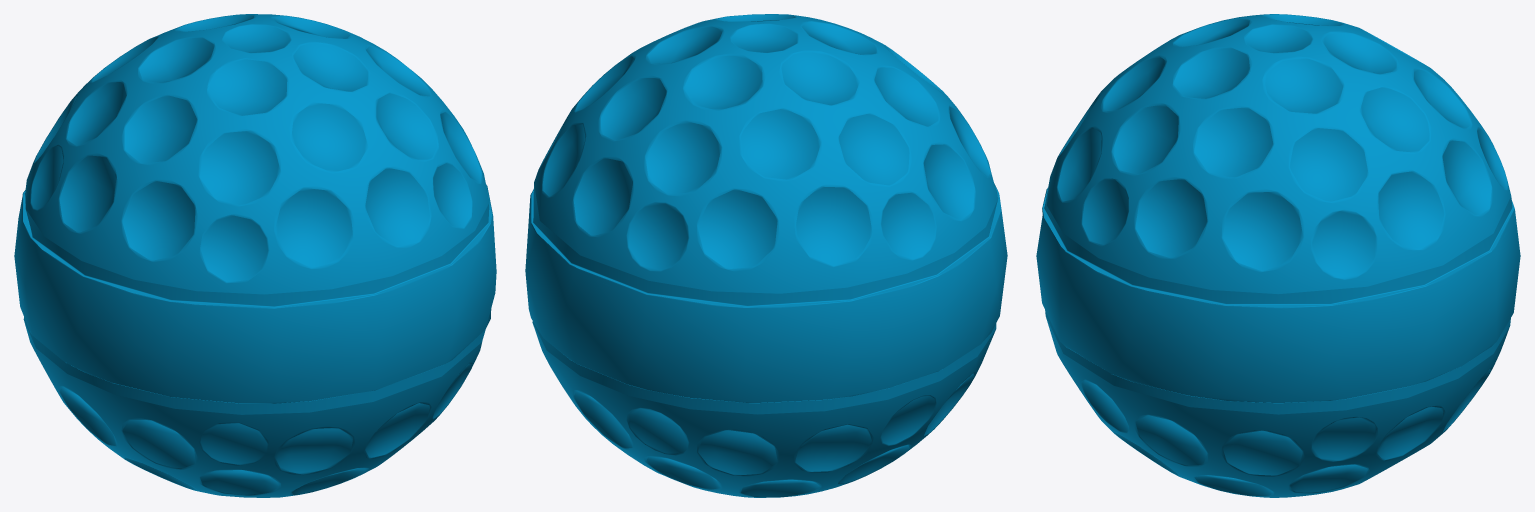
The model's file is ChangeUpBallBlue.dae.
3 views of the same model, side by side, from view 1: azimuth 30°, elevation 25°; view 2: azimuth 150°, elevation 25°; view 3: azimuth 270°, elevation 25° (orthographic).
Parts seen in each view (by area): view 1: BallBlue; view 2: BallBlue; view 3: BallBlue.
Part boxes in pixels (<box>): BallBlue: <box>14,14,496,497</box>; BallBlue: <box>525,14,1007,497</box>; BallBlue: <box>1036,14,1520,497</box>.
Size of the model in its own units: 0.1561 by 0.16 by 0.1583.
